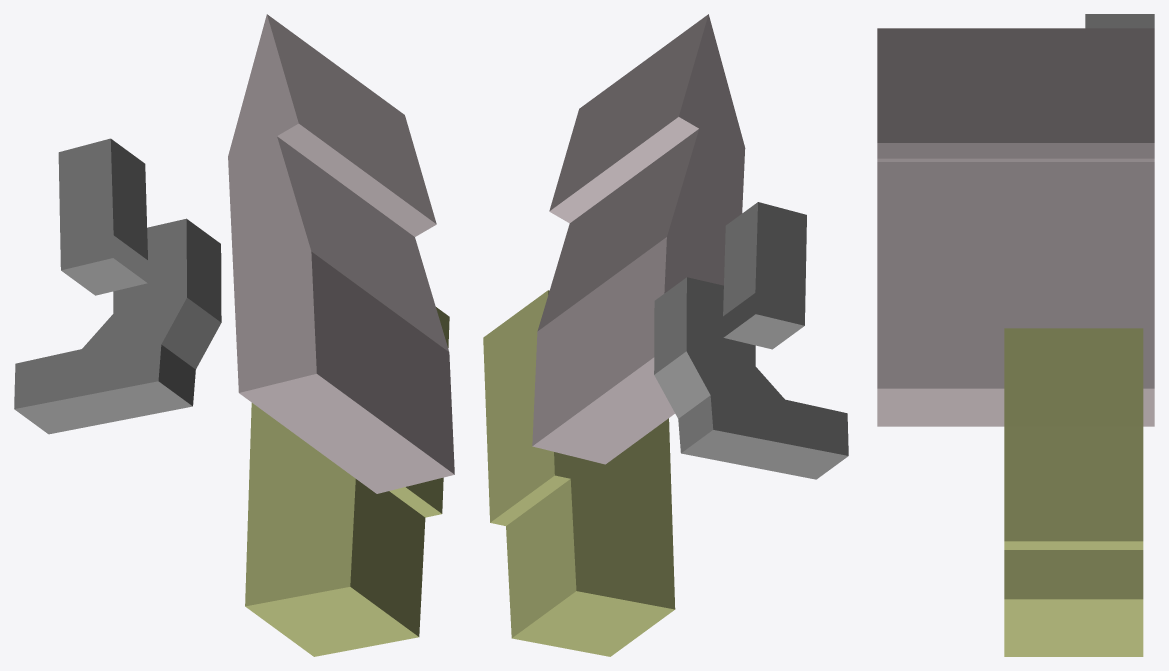
The picture shows the model from 3 angles, left to right: view 1: azimuth 30°, elevation 25°; view 2: azimuth 150°, elevation 25°; view 3: azimuth 270°, elevation 25°; orthographic projection. The views are drawn at different scales.
Visible parts, largest first — view 1: 0_1_0_2_1_3_0_3_1_3; view 2: 0_1_0_2_1_3_0_3_1_3; view 3: 0_1_0_2_1_3_0_3_1_3.
Boxes of the visible parts, bbox=[...] form: 0_1_0_2_1_3_0_3_1_3: bbox=[14, 14, 454, 656]; 0_1_0_2_1_3_0_3_1_3: bbox=[483, 14, 848, 656]; 0_1_0_2_1_3_0_3_1_3: bbox=[877, 14, 1154, 656].
Bounding box in the file's own units: 18.11 × 28.18 × 12.
